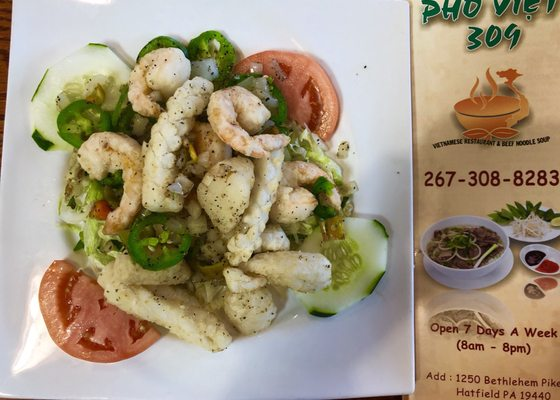sushi: (420, 215, 511, 290)
